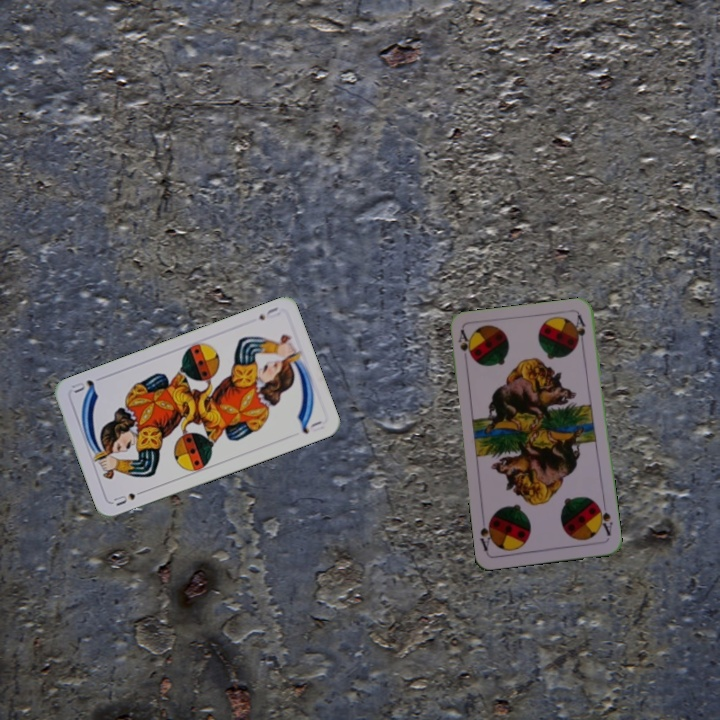SA: (593, 499, 615, 538), (454, 326, 474, 361)
SU: (110, 486, 148, 509), (254, 303, 283, 323)
